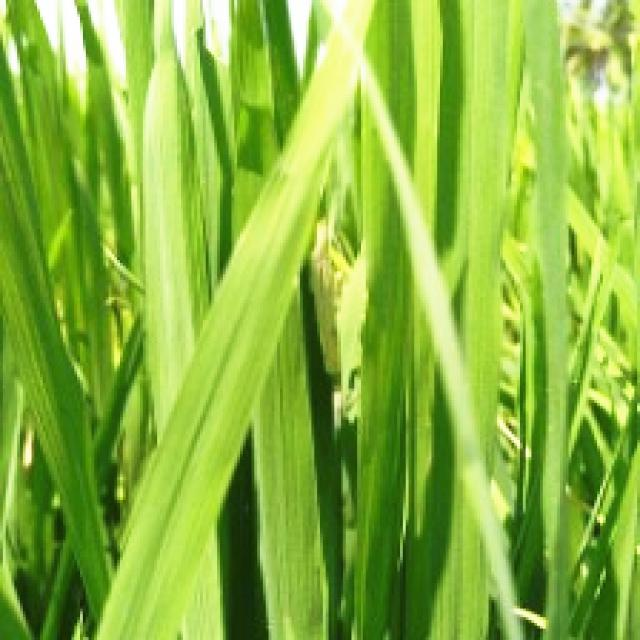health: (352, 5, 500, 640)
